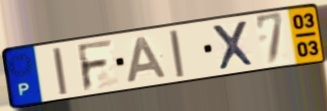7: (253, 10, 285, 69)
A: (125, 34, 169, 85)
F: (75, 38, 116, 94)
I: (50, 45, 70, 97), (167, 27, 187, 79)
X: (210, 18, 257, 72)
